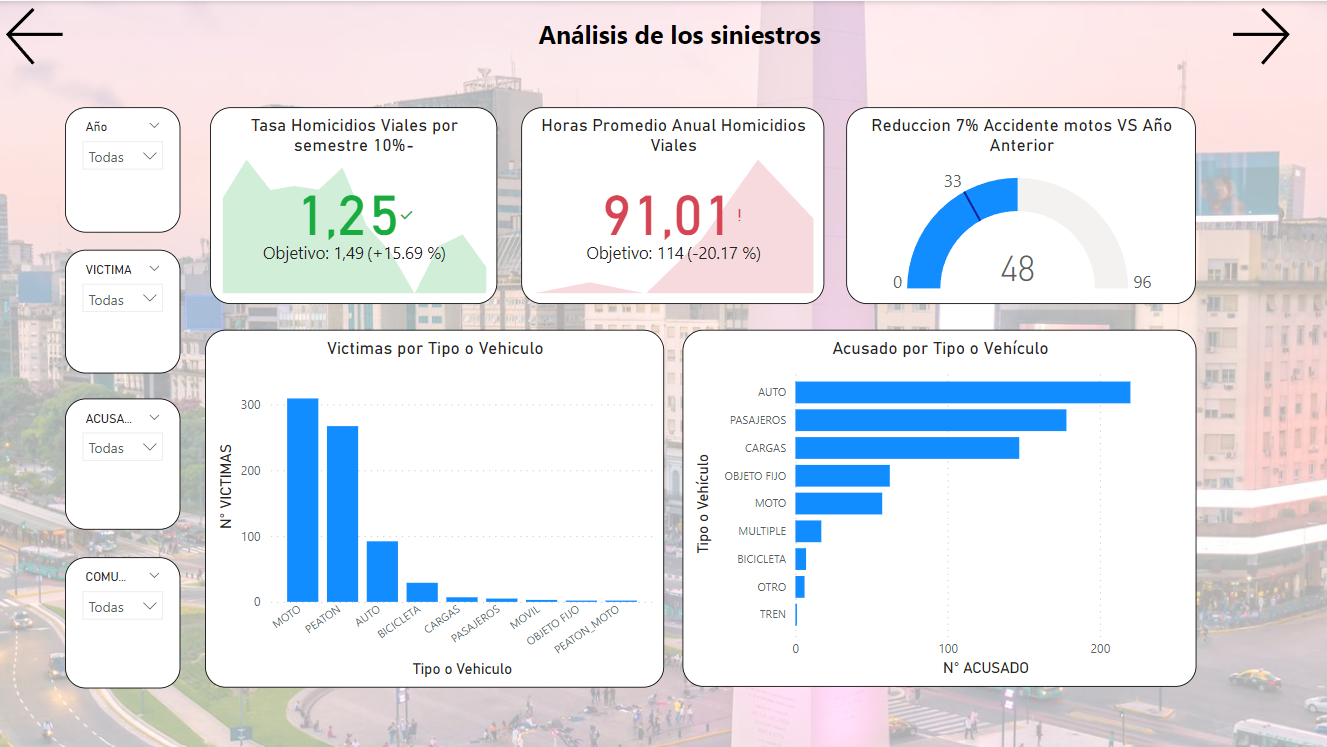

Layout of this report page (visuals, bound fields, positions):
{"tool":"powerbi","page":{"name":"Siniestros","canvas":[1280,720],"ordinal":1},"visuals":[{"type":"clusteredBarChart","title":"Acusado por Tipo o Vehículo","fields":{"Category":["homicidios_proc.ACUSADO"],"Y":["CountNonNull(homicidios_proc.ACUSADO)"]},"box":[657,317.3,495.5,343.9],"z":3000},{"type":"columnChart","title":"Victimas por Tipo o Vehiculo","fields":{"Category":["homicidios_proc.VICTIMA"],"Y":["Sum(homicidios_proc.N_VICTIMAS)"]},"box":[198.1,316.7,442,345],"z":4000},{"type":"textbox","box":[392.5,11,531,42.5],"z":5000},{"type":"slicer","fields":{"Values":["homicidios_proc.FECHA.Variación.Jerarquía de fechas.Año"]},"box":[63.2,102.5,110.9,120.7],"z":7000},{"type":"slicer","fields":{"Values":["homicidios_proc.VICTIMA"]},"box":[63.2,240.1,110.9,119.3],"z":10000},{"type":"slicer","fields":{"Values":["homicidios_proc.COMUNA"]},"box":[63.2,536.3,110.9,126.3],"z":11000},{"type":"slicer","fields":{"Values":["homicidios_proc.ACUSADO"]},"box":[63.2,383.2,110.9,126.3],"z":12000},{"type":"kpi","title":"Tasa Homicidios Viales por semestre 10%-","fields":{"TrendLine":["poblacion_semestral.Semestre"],"Goal":["homicidios_proc.ValorObjetivo"],"Indicator":["homicidios_proc.TasaHomicidiosViales"]},"box":[202.2,102.5,276.6,189.5],"z":13000},{"type":"gauge","title":"Reduccion 7% Accidente motos VS Año Anterior","fields":{"TargetValue":["homicidios_proc.AccidentesMotoAnioAnterior"],"Y":["homicidios_proc.AccidentesMoto"]},"box":[815.6,102.5,336.9,189.5],"z":14000},{"type":"kpi","title":"Horas Promedio Anual Homicidios Viales ","fields":{"Indicator":["homicidios_proc.AverageTimeBetweenAccidents"],"TrendLine":["homicidios_proc.FECHA.Variación.Jerarquía de fechas.Año"],"Goal":["homicidios_proc.kpi"]},"box":[502.6,102.5,292,189.5],"z":15000},{"type":"actionButton","box":[0,0,99.4,68.1],"z":16000},{"type":"actionButton","box":[1180.9,0,99.4,68.1],"z":17000}]}

Visuals, with their boxes in screenshot pixels (x1, y1, x2, y2), scaled from the page's 1280x720 canvas onto the 1327x747 screenshot:
"Acusado por Tipo o Vehículo" clusteredBarChart: 681/329/1195/686
"Victimas por Tipo o Vehiculo" columnChart: 205/329/664/687
textbox: 407/11/957/56
slicer - homicidios_proc.FECHA.Variación.Jerarquía de fechas.Año: 66/106/180/232
slicer - homicidios_proc.VICTIMA: 66/249/180/373
slicer - homicidios_proc.COMUNA: 66/556/180/687
slicer - homicidios_proc.ACUSADO: 66/398/180/529
"Tasa Homicidios Viales por semestre 10%-" kpi: 210/106/496/303
"Reduccion 7% Accidente motos VS Año Anterior" gauge: 846/106/1195/303
"Horas Promedio Anual Homicidios Viales " kpi: 521/106/824/303
actionButton: 0/0/103/71
actionButton: 1224/0/1326/71
